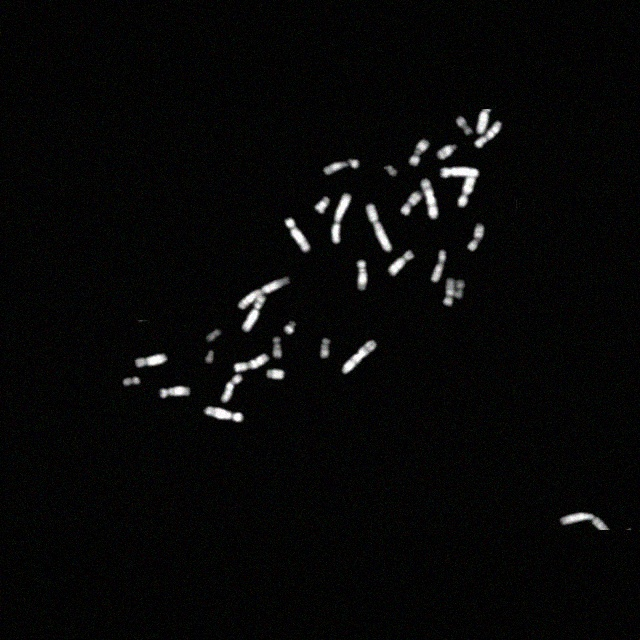chromosome: (238, 276, 292, 310), (366, 202, 392, 252), (342, 340, 378, 374), (332, 192, 351, 244), (242, 296, 268, 332), (560, 512, 612, 530), (285, 218, 311, 252), (420, 178, 438, 220), (458, 170, 478, 207), (388, 250, 414, 278), (476, 122, 504, 146), (324, 158, 360, 176), (204, 406, 244, 422), (221, 374, 243, 402), (235, 353, 269, 371), (134, 354, 168, 371), (466, 224, 486, 252), (401, 190, 422, 216), (431, 250, 447, 284), (410, 140, 430, 167), (442, 166, 481, 178), (160, 386, 190, 400), (356, 258, 368, 292), (478, 108, 492, 134), (456, 115, 474, 135), (266, 367, 286, 383), (436, 144, 456, 160), (444, 277, 454, 307), (272, 335, 284, 359), (314, 198, 330, 215), (454, 280, 468, 298), (320, 336, 330, 360), (206, 329, 220, 343), (384, 163, 396, 177), (284, 320, 296, 334), (124, 376, 140, 386), (206, 350, 216, 364)
